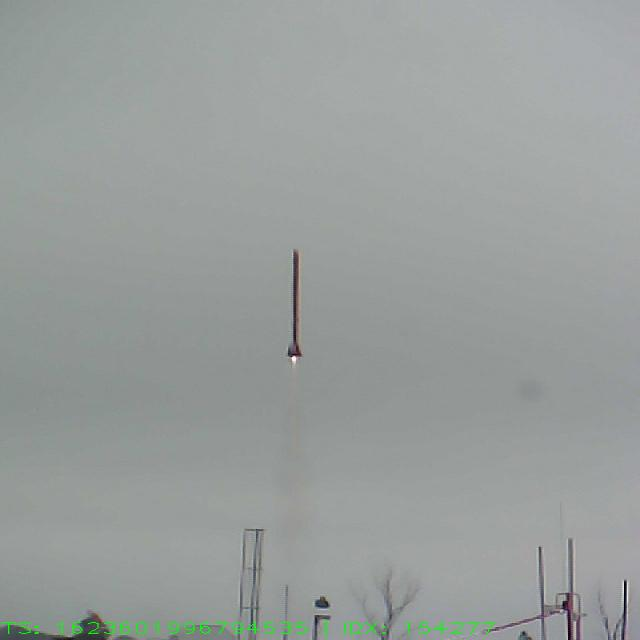Rocket: (286, 248, 302, 358)
